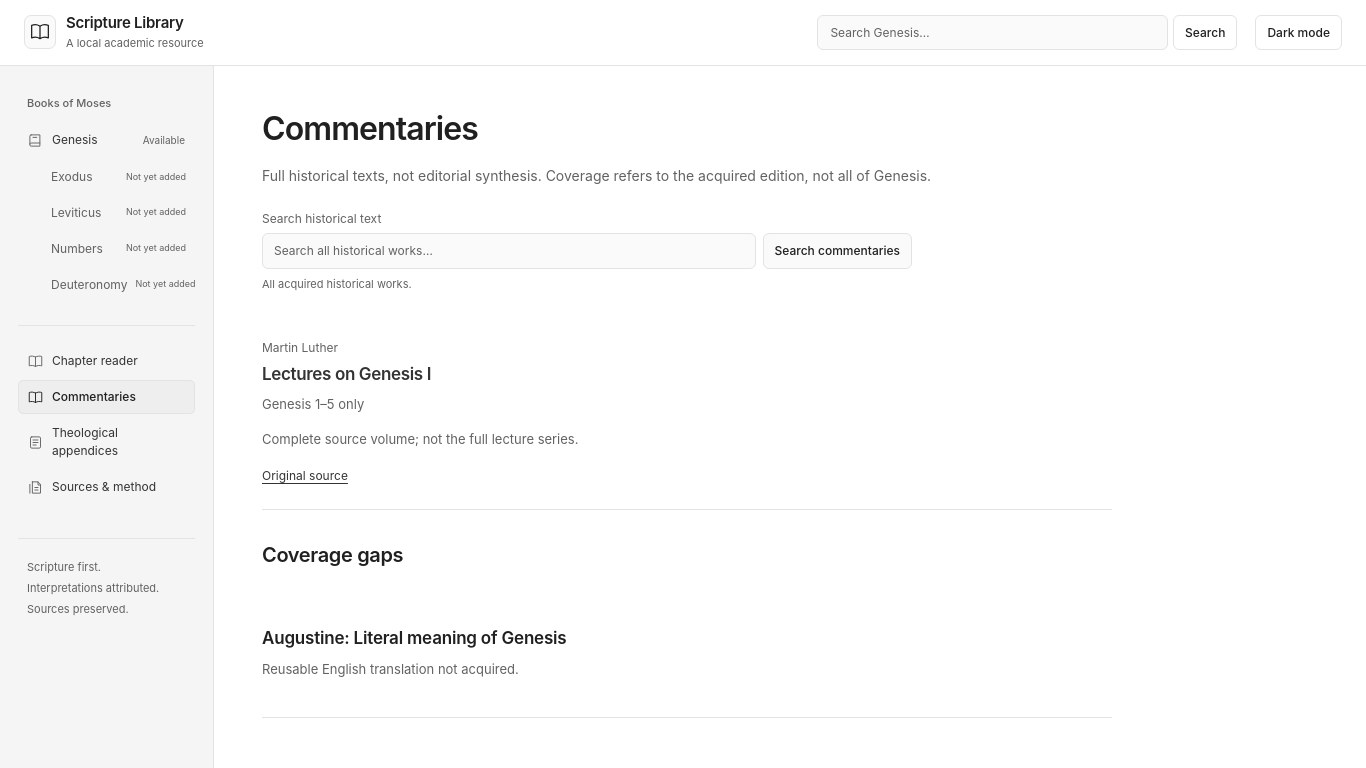
Scenario: offers empty search guidance, no-result state, and unscoped search from the catalog
expect the link "Lectures on Genesis I" is shown: met, box [262, 364, 431, 384]
Submit the form named "Search historical works", box [262, 209, 912, 293]
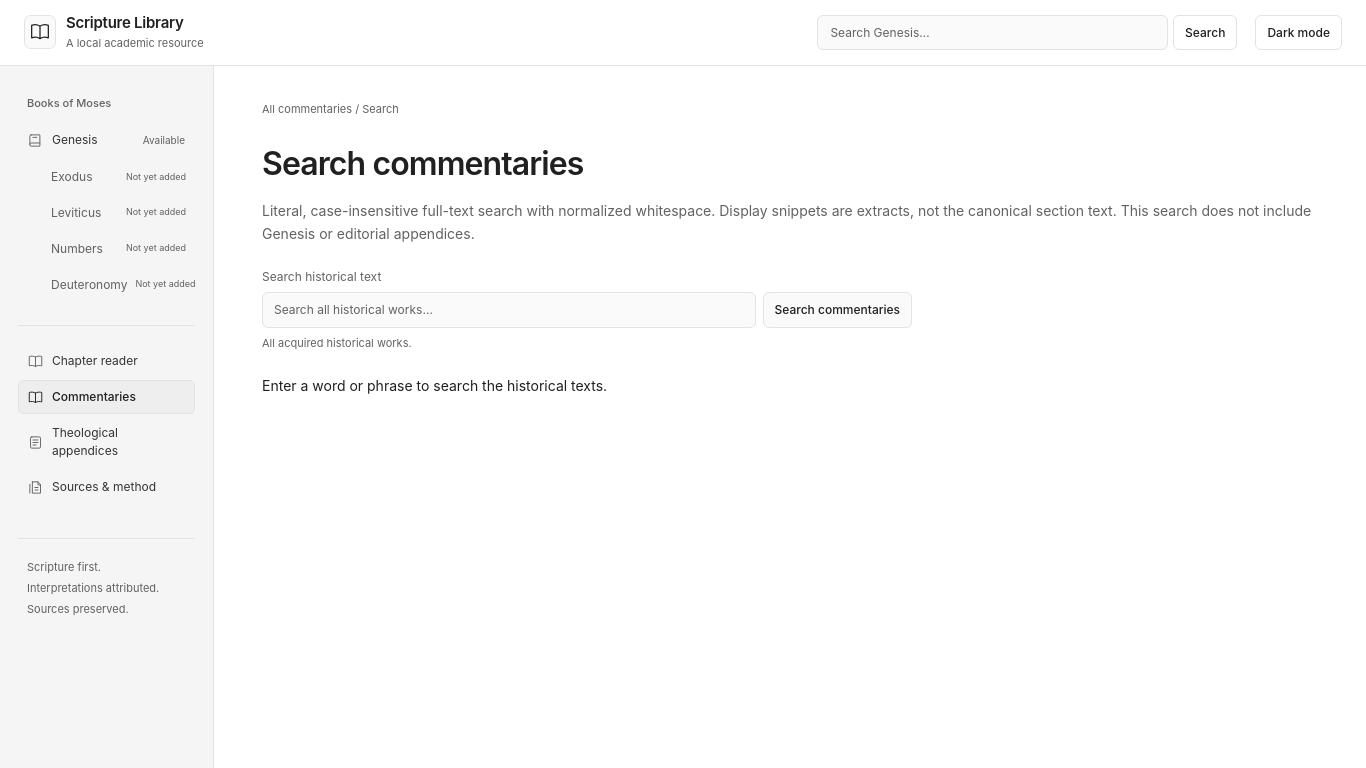
expect the text "Enter a word or phrase to search the historical texts." is shown: met, box [262, 377, 607, 394]
Type "unmatched" into the search field labelled "Search historical text" at (509, 310), box [262, 292, 756, 328]
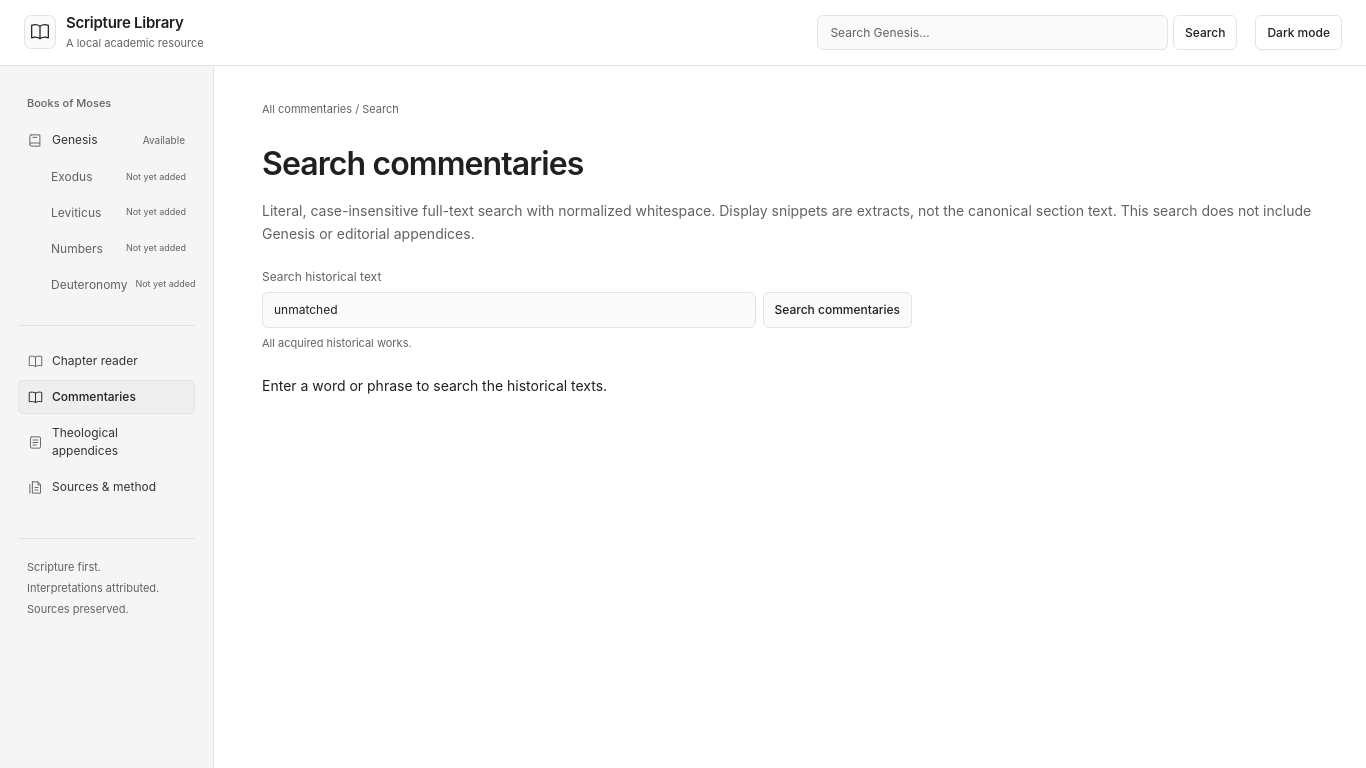
Submit the form named "Search historical works", box [262, 267, 912, 352]
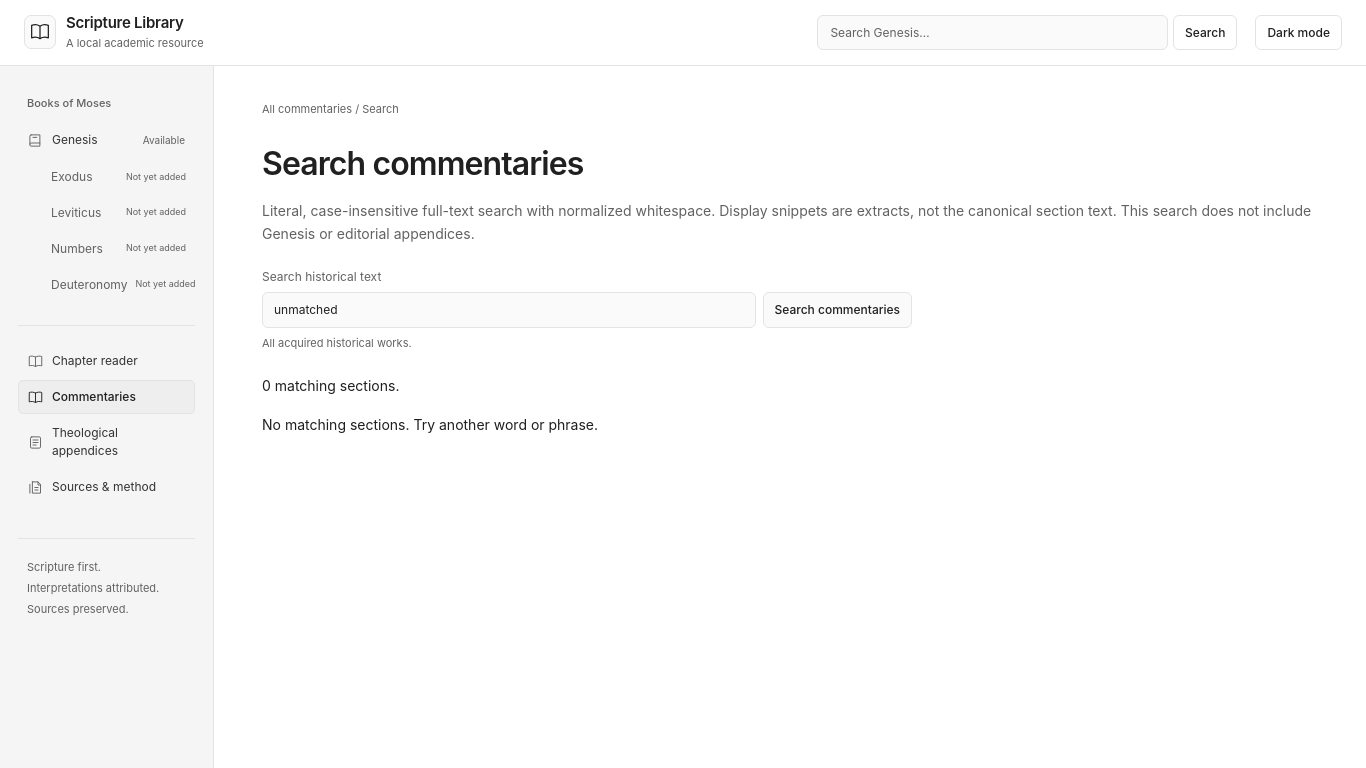
expect the text "No matching sections. Try another word or phrase." is shown: met, box [262, 416, 598, 433]
